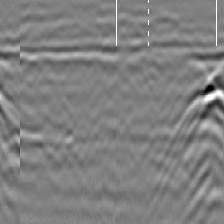Utility: (170, 73, 224, 163)
